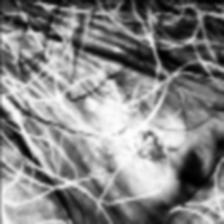Potentially Malignant Skin Tumors: (90, 100, 214, 205)
